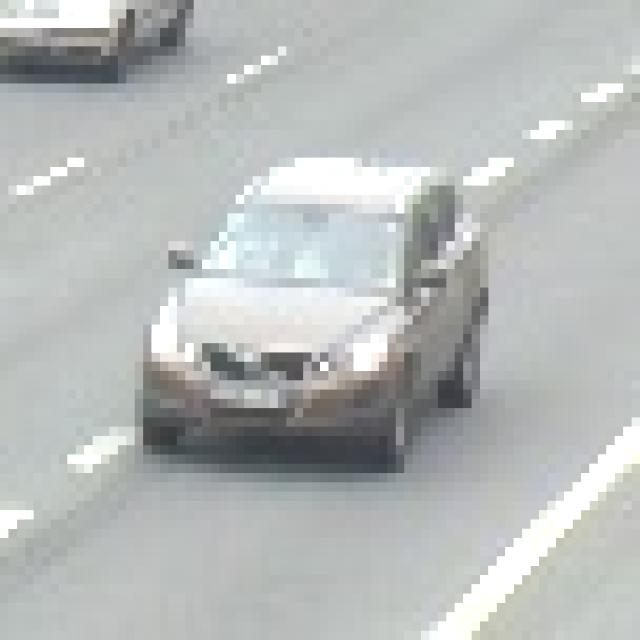SUV: (139, 174, 482, 442)
